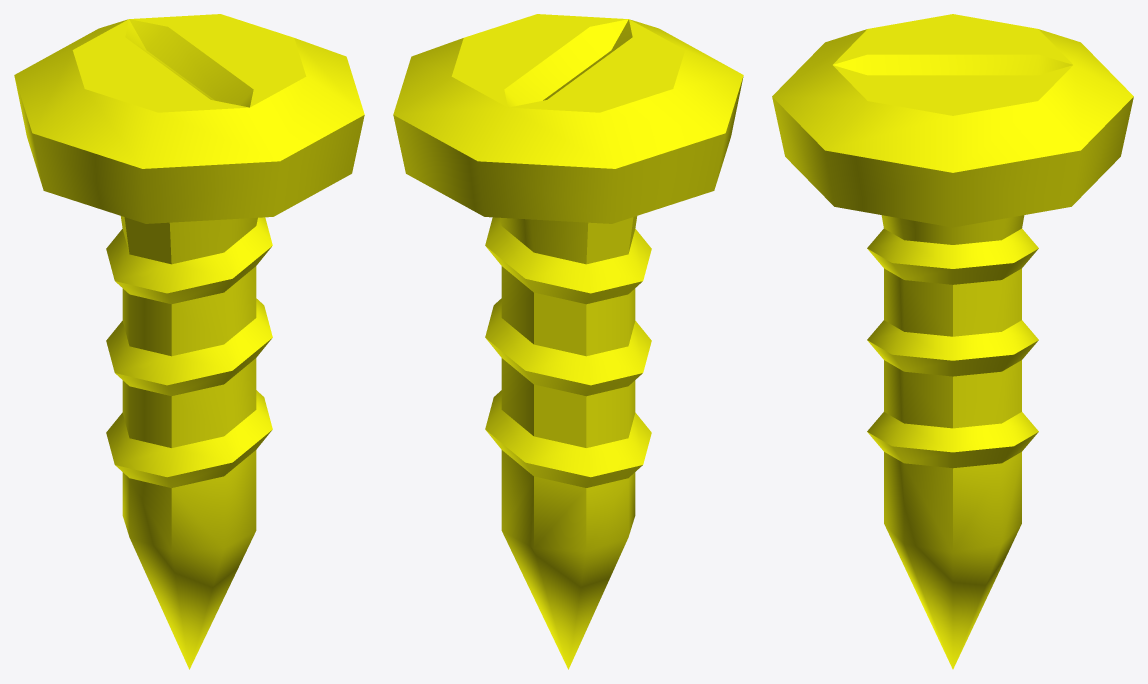
The model's file is kaykit-screw-a.glb.
3 views of the same model, side by side, from view 1: azimuth 30°, elevation 25°; view 2: azimuth 150°, elevation 25°; view 3: azimuth 270°, elevation 25° (orthographic).
Parts seen in each view (by area): view 1: screw_A; view 2: screw_A; view 3: screw_A.
Part boxes in pixels (x1,y1,x2,y2): screw_A: [14, 14, 364, 669]; screw_A: [393, 14, 743, 669]; screw_A: [772, 14, 1133, 669].
Size of the model in its own units: 0.1589 by 0.2931 by 0.1589.
